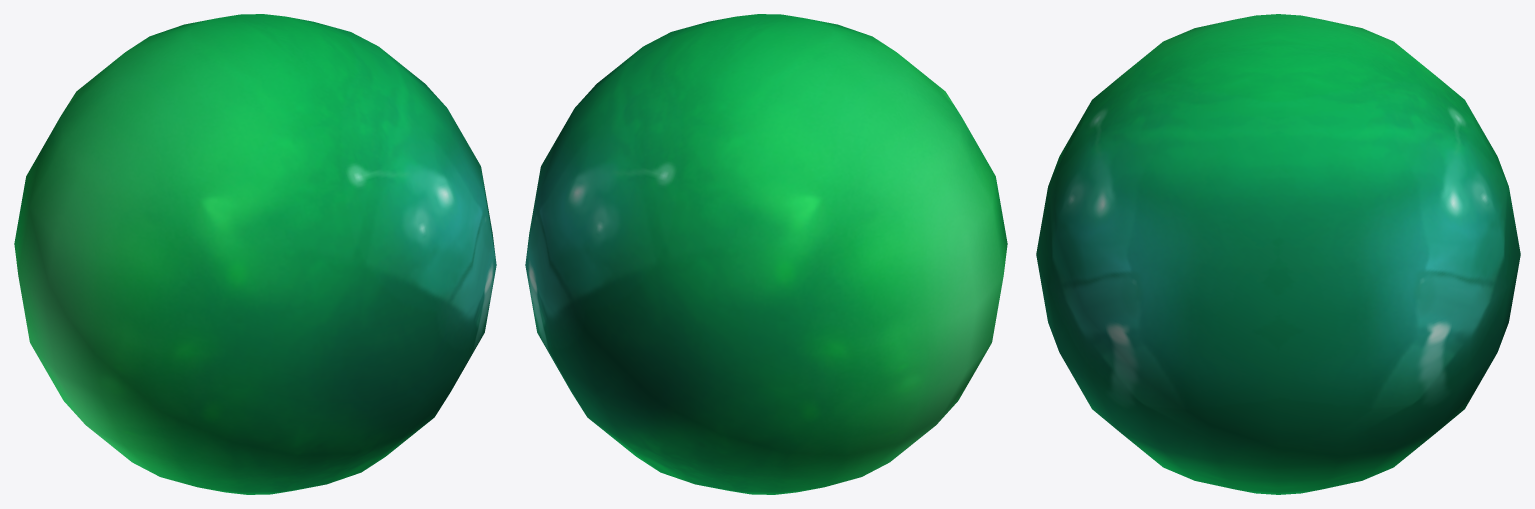
The model's file is qiu_25.FBX.
3 views of the same model, side by side, from view 1: azimuth 30°, elevation 25°; view 2: azimuth 150°, elevation 25°; view 3: azimuth 270°, elevation 25° (orthographic).
Parts seen in each view (by area): view 1: qiu_25; view 2: qiu_25; view 3: qiu_25.
Part boxes in pixels (left/top/right/bottom): qiu_25: left=14, top=14, right=496, bottom=494; qiu_25: left=525, top=14, right=1007, bottom=494; qiu_25: left=1036, top=14, right=1520, bottom=494.
Bounding box in the file's own units: 592 × 592 × 592.
1 material, 1 textured.
